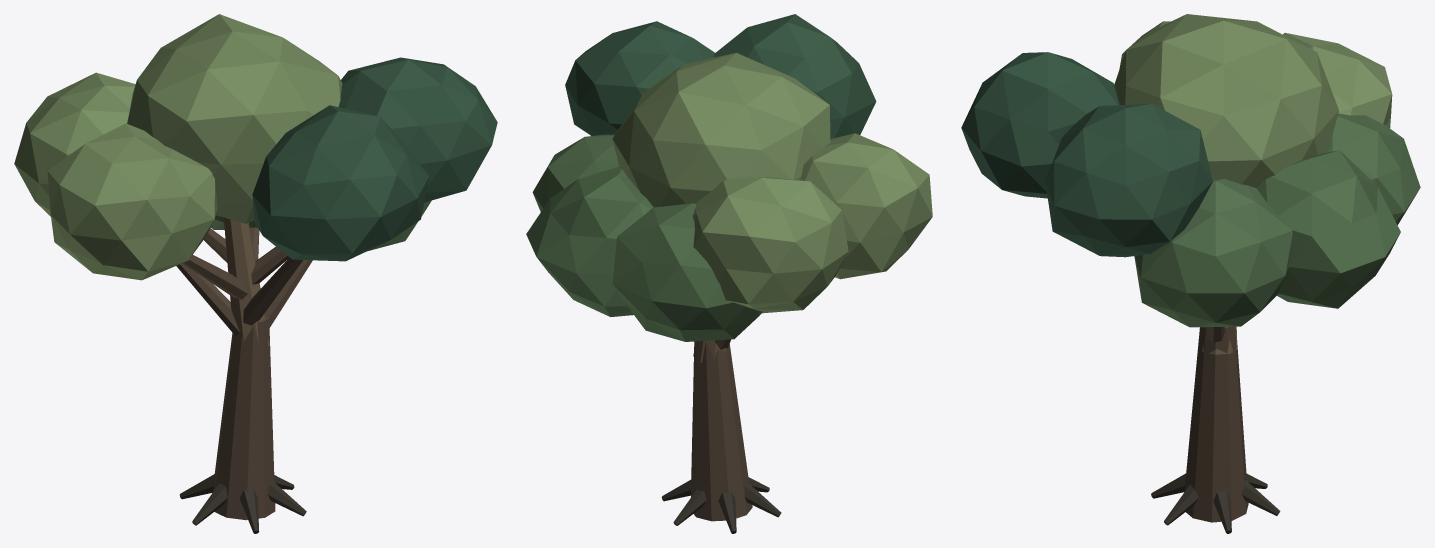
The model's file is broadleaf-tree.glb.
The picture shows the model from 3 angles, left to right: view 1: azimuth 30°, elevation 25°; view 2: azimuth 150°, elevation 25°; view 3: azimuth 270°, elevation 25°; orthographic projection. The views are drawn at different scales.
Parts seen in each view (by area): view 1: broadleaf-tree; view 2: broadleaf-tree; view 3: broadleaf-tree.
Part boxes in pixels (x1,y1,x2,y2): broadleaf-tree: [14, 14, 497, 533]; broadleaf-tree: [526, 14, 932, 533]; broadleaf-tree: [961, 14, 1420, 533].
Size of the model in its own units: 5.95 by 6.84 by 5.88.
